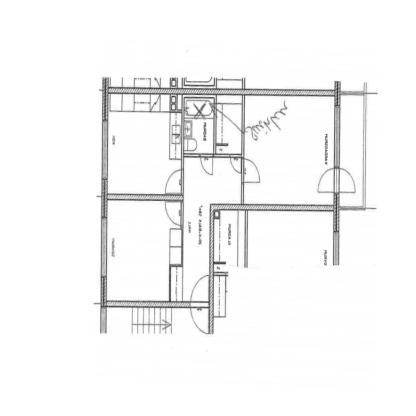door: (187, 267, 213, 332), (315, 165, 356, 197), (187, 307, 213, 340), (162, 168, 186, 198), (163, 201, 186, 231), (317, 163, 337, 197), (240, 158, 262, 184), (197, 152, 215, 177), (227, 151, 244, 175)
window: (99, 115, 111, 183), (332, 102, 343, 169), (99, 214, 110, 280)
